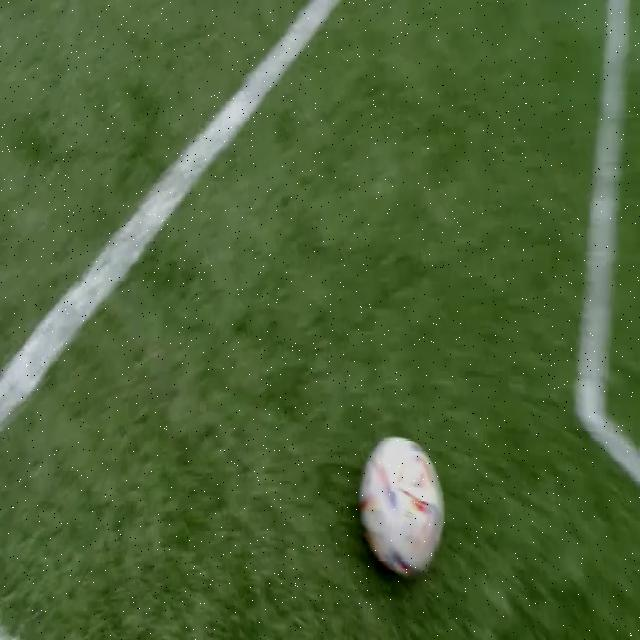ball: (360, 438, 444, 574)
